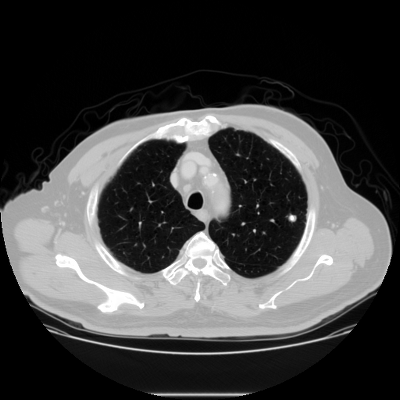nodule: (287, 213, 297, 223)
